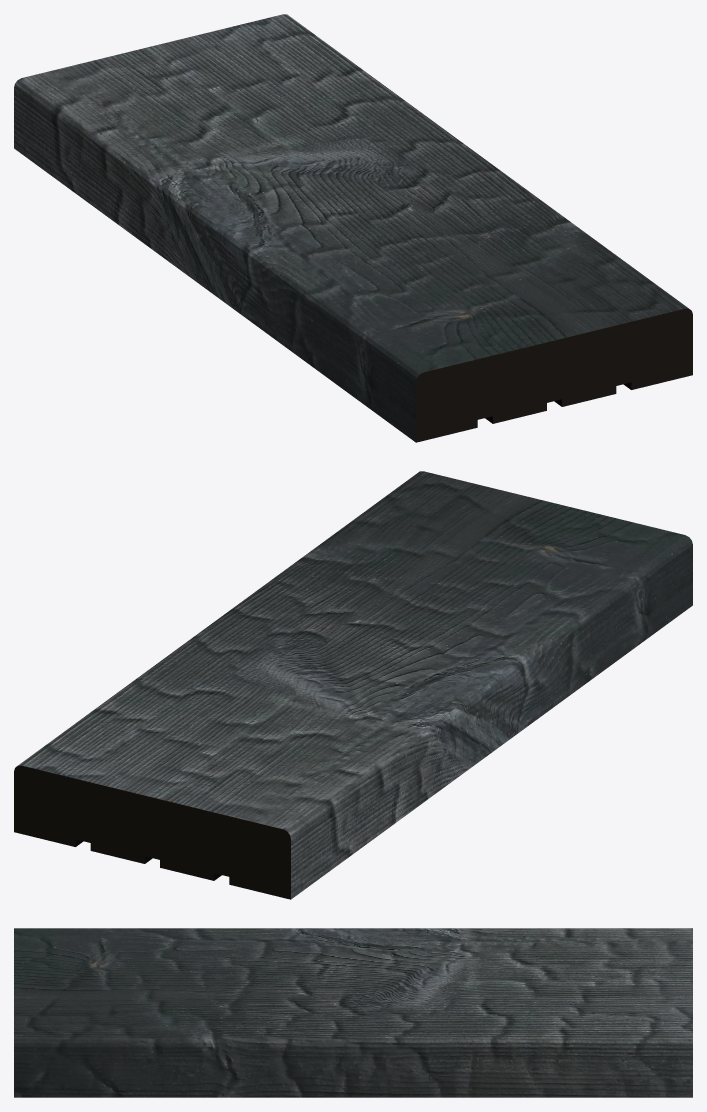
File: thermo-terrace-black.glb
3 views of the same model, one above another, from view 1: azimuth 30°, elevation 25°; view 2: azimuth 150°, elevation 25°; view 3: azimuth 270°, elevation 25° (orthographic). The views are drawn at different scales.
Visible parts, largest first — view 1: Staciakampis; view 2: Staciakampis; view 3: Staciakampis.
Boxes of the visible parts, x1,y1,x2,y2 form: Staciakampis: (14,14,692,442); Staciakampis: (14,471,692,899); Staciakampis: (14,928,692,1097).
Size of the model in its own units: 0.0733 by 0.0173 by 0.1843.
3 materials, 1 textured.
